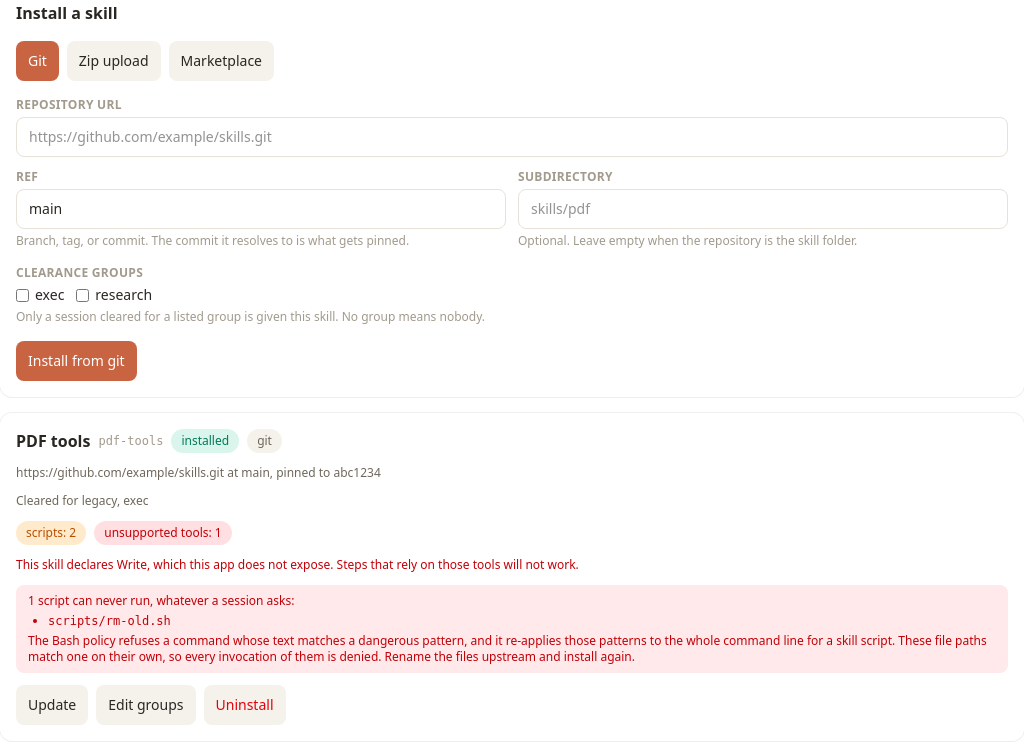
SkillsAdmin stale groups › names the dropped group rather than removing it silently
This screenshot has width=1024, height=753.
Click the button with aria-label "Edit groups of pdf-tools" at [146, 705], box x1=96 y1=685 x2=196 y2=725
(page scrolled)
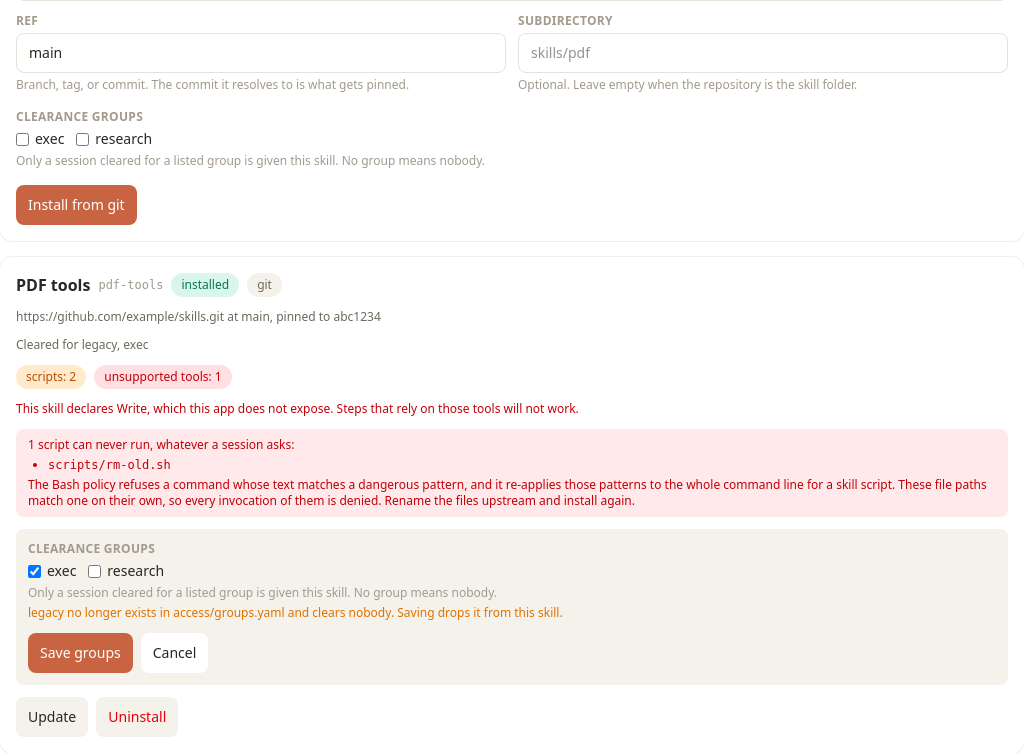
Expected: the text with test id "stale-groups" shows "legacy", x1=28 y1=604 x2=64 y2=621
